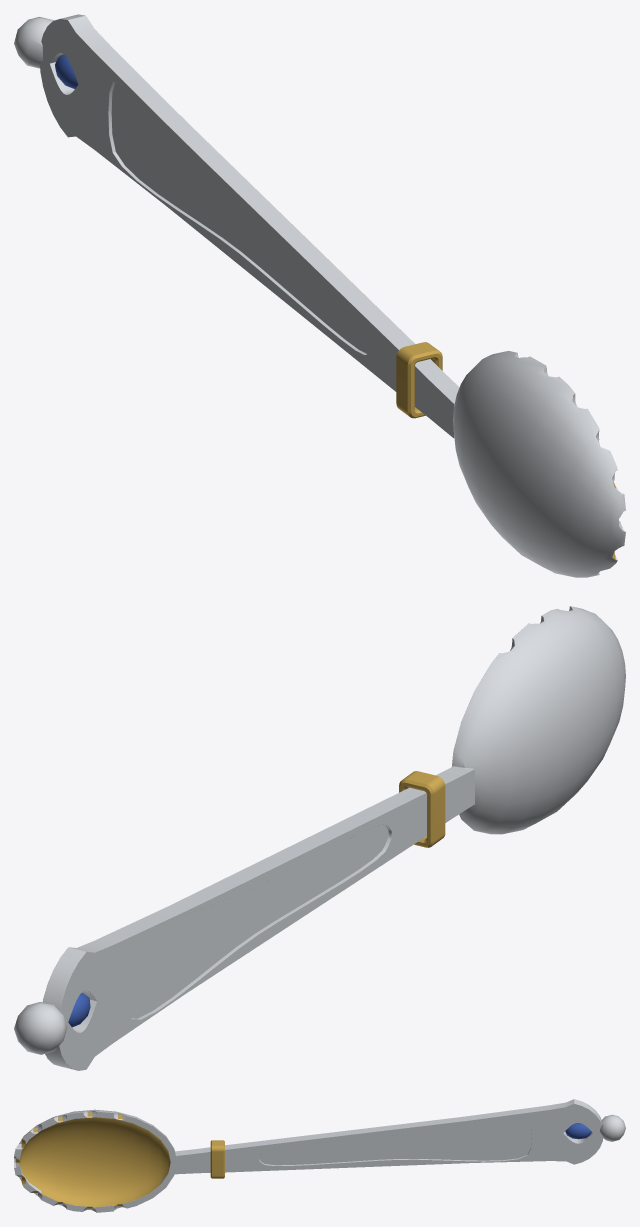
The model's file is w_knife@knife_spoon.glb.
3 renders of one model, top to bottom at view 1: azimuth 30°, elevation 25°; view 2: azimuth 150°, elevation 25°; view 3: azimuth 270°, elevation 25°, orthographic. The views are drawn at different scales.
Visible parts, largest first — view 1: spoon_wzA__steel__pe2e6eb, collar_wzN__brass__pc9a54e; view 2: spoon_wzA__steel__pe2e6eb, collar_wzN__brass__pc9a54e; view 3: spoon_wzA__steel__pe2e6eb, bowl_wzB__bowl__pc9a54e, collar_wzN__brass__pc9a54e, gem_wzN__gem__p3e5fae.
Boxes of the visible parts, <box> form: spoon_wzA__steel__pe2e6eb: <box>14,14,625,577</box>; collar_wzN__brass__pc9a54e: <box>396,342,442,418</box>; spoon_wzA__steel__pe2e6eb: <box>14,606,625,1070</box>; collar_wzN__brass__pc9a54e: <box>399,771,445,847</box>; spoon_wzA__steel__pe2e6eb: <box>14,1099,625,1212</box>; bowl_wzB__bowl__pc9a54e: <box>16,1112,170,1208</box>; collar_wzN__brass__pc9a54e: <box>210,1140,224,1178</box>; gem_wzN__gem__p3e5fae: <box>565,1123,591,1139</box>.
Size of the model in its own units: 0.0163 by 0.0504 by 0.2568.
